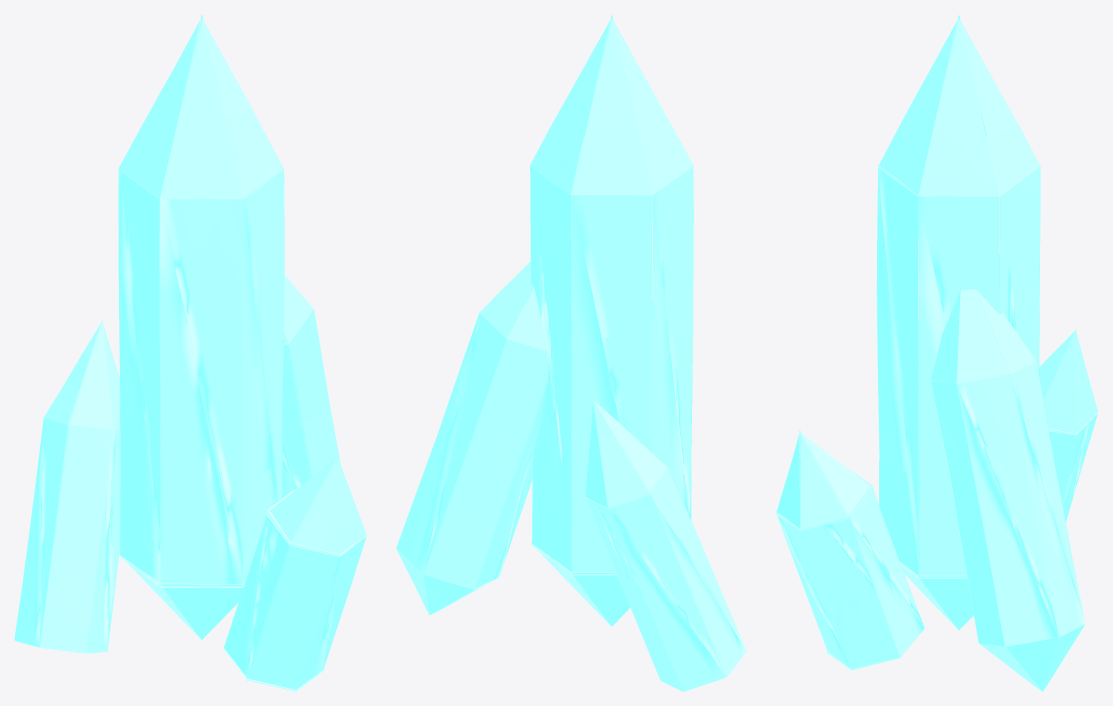
Rendered from crystal.glb.
3 views of the same model, side by side, from view 1: azimuth 30°, elevation 25°; view 2: azimuth 150°, elevation 25°; view 3: azimuth 270°, elevation 25° (orthographic). The views are drawn at different scales.
Parts seen in each view (by area): view 1: Crystal0Shaft; view 2: Crystal0Shaft; view 3: Crystal0Shaft.
Part boxes in pixels (bbox=[...]): Crystal0Shaft: bbox=[14, 14, 367, 691]; Crystal0Shaft: bbox=[396, 14, 746, 691]; Crystal0Shaft: bbox=[775, 14, 1098, 691].
Bounding box in the file's own units: 1.36 × 2.54 × 1.19.
